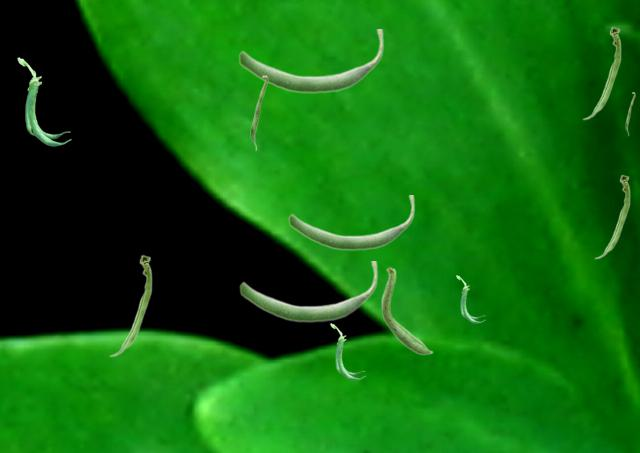french_bean: (238, 29, 383, 93), (239, 261, 377, 322), (288, 195, 414, 250), (17, 57, 70, 145), (381, 266, 432, 354), (109, 254, 151, 356), (582, 26, 620, 119), (594, 174, 629, 258), (330, 323, 364, 379), (456, 275, 484, 322), (250, 75, 267, 150), (625, 92, 634, 135)
